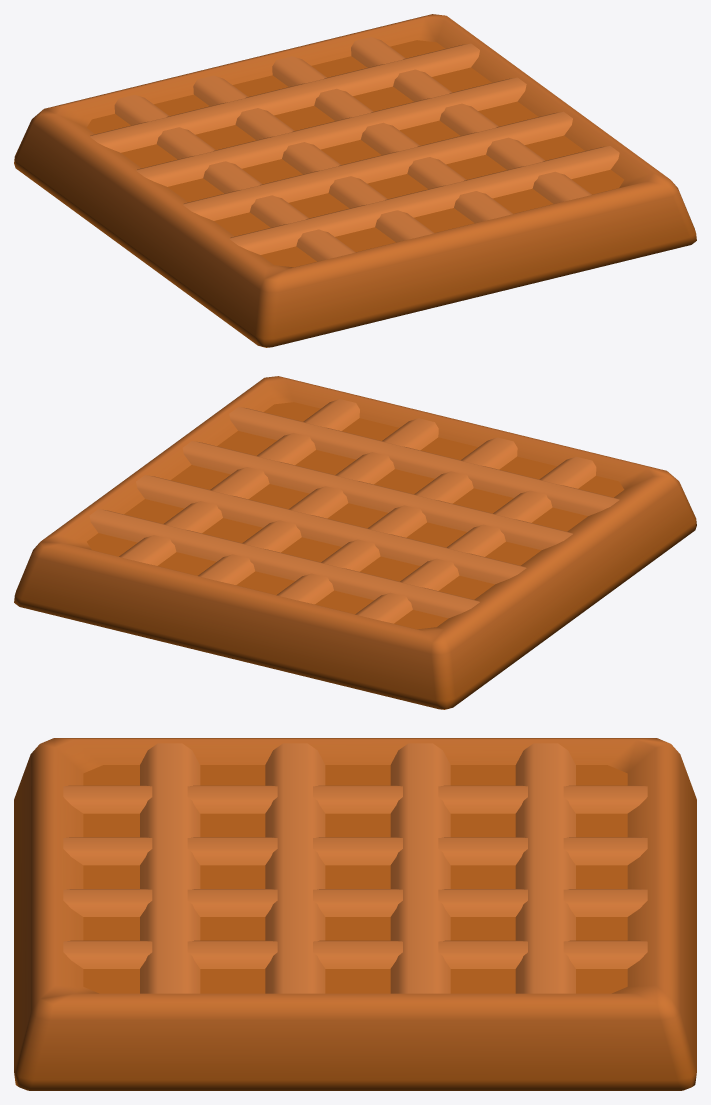
File: Waffle_02.glb
3 renders of one model, top to bottom at view 1: azimuth 30°, elevation 25°; view 2: azimuth 150°, elevation 25°; view 3: azimuth 270°, elevation 25°, orthographic. The views are drawn at different scales.
Visible parts, largest first — view 1: Waffle_02; view 2: Waffle_02; view 3: Waffle_02.
Boxes of the visible parts, x1,y1,x2,y2 form: Waffle_02: [14, 14, 696, 347]; Waffle_02: [14, 376, 696, 709]; Waffle_02: [14, 738, 696, 1090].
Size of the model in its own units: 8.59 by 1.19 by 8.59.
Materials: 2 (2 with a texture image).
